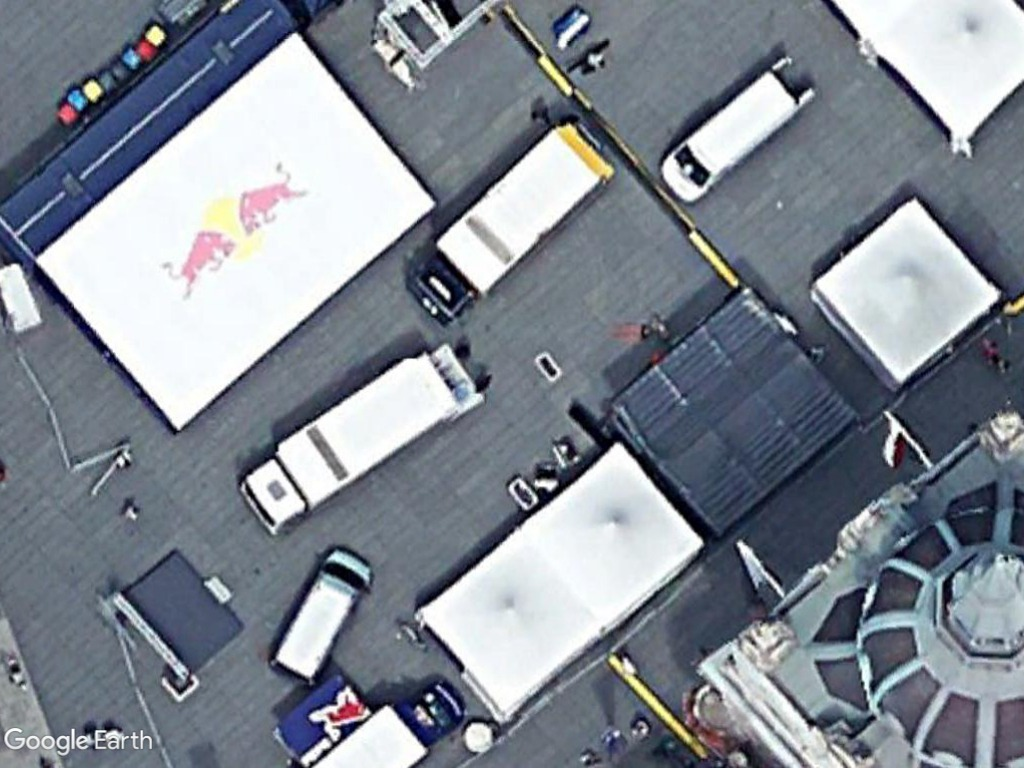truck: (406, 116, 622, 328), (237, 346, 460, 541)
van: (654, 68, 806, 204), (269, 541, 379, 687)
